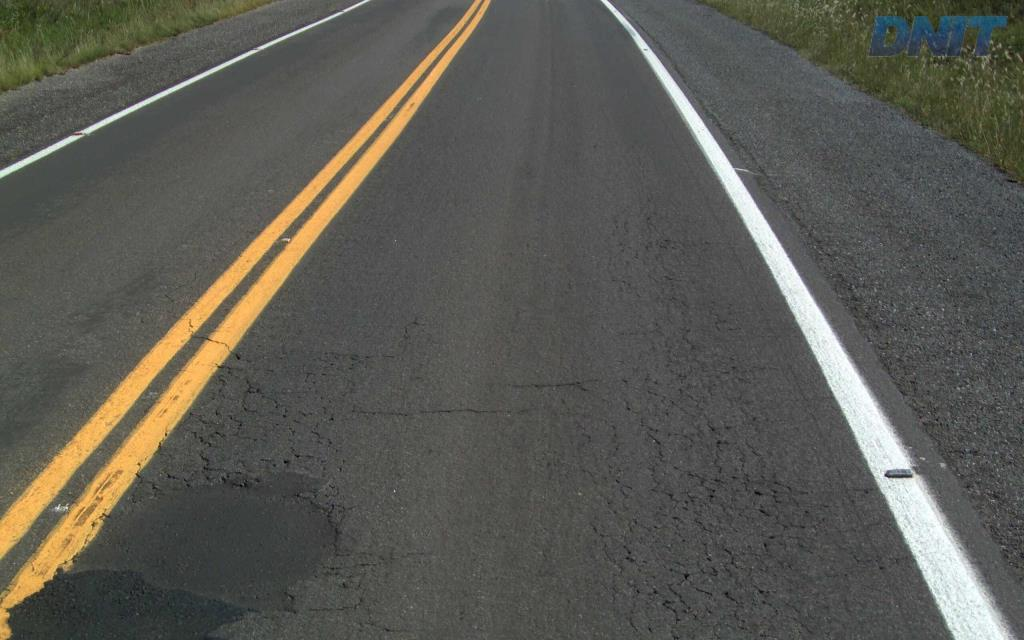crack: (730, 449, 828, 536), (744, 530, 797, 573), (714, 540, 746, 591)
